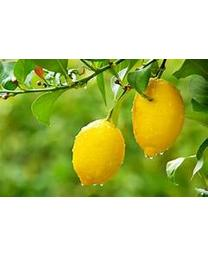lemon: (131, 77, 186, 157), (74, 120, 125, 186)
